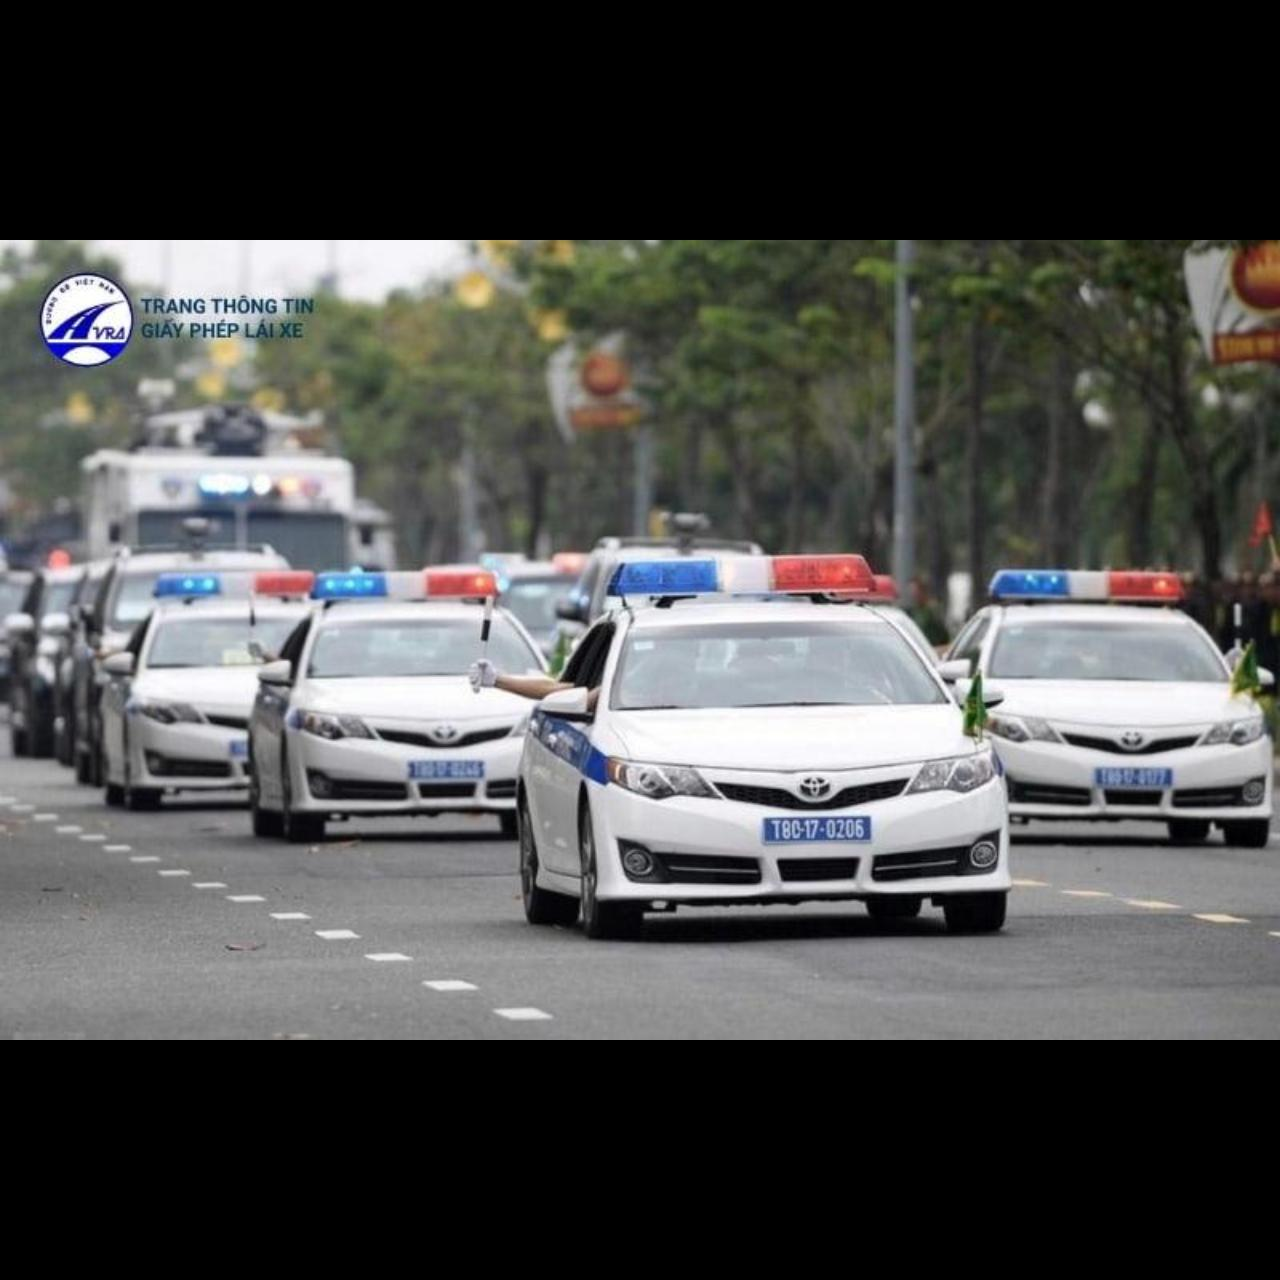bienso: (761, 814, 873, 846), (1092, 765, 1176, 789), (406, 757, 486, 781)
